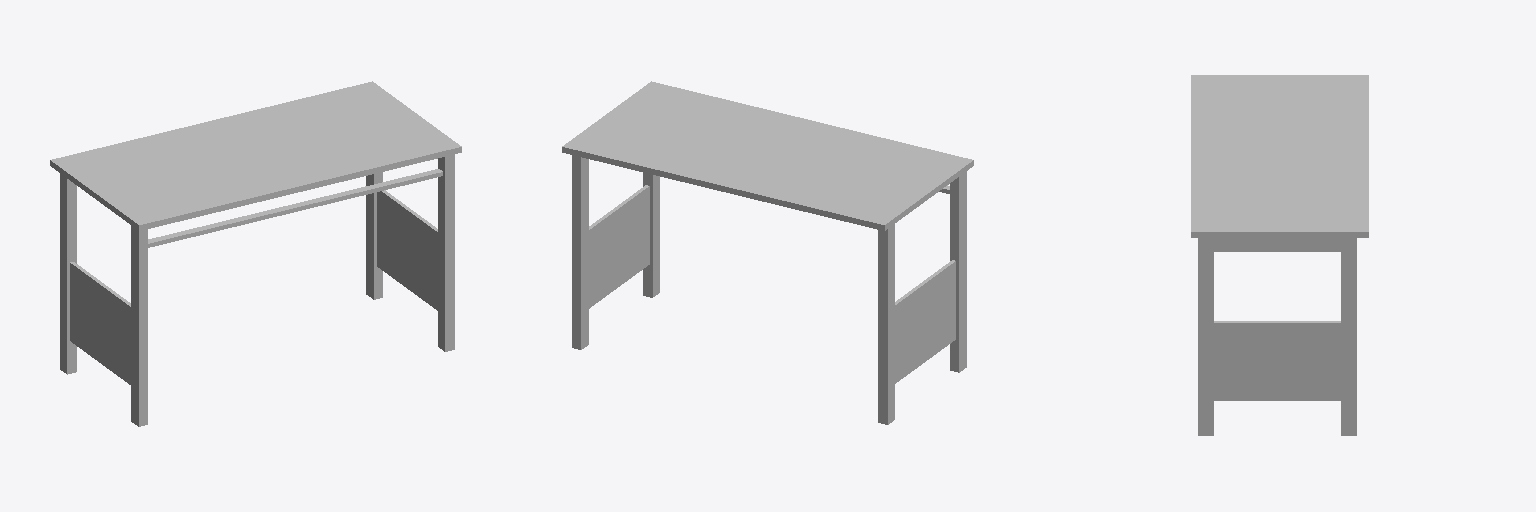
Rendered from Desk_2.obj.
3 views of the same model, side by side, from view 1: azimuth 30°, elevation 25°; view 2: azimuth 150°, elevation 25°; view 3: azimuth 270°, elevation 25° (orthographic).
Visible parts, largest first — view 1: Desk_2; view 2: Desk_2; view 3: Desk_2.
Part boxes in pixels (x1,y1,x2,y2): Desk_2: (50,81,461,426); Desk_2: (562,81,973,424); Desk_2: (1191,75,1368,435).
Size of the model in its own units: 1.56 by 0.9509 by 0.75.